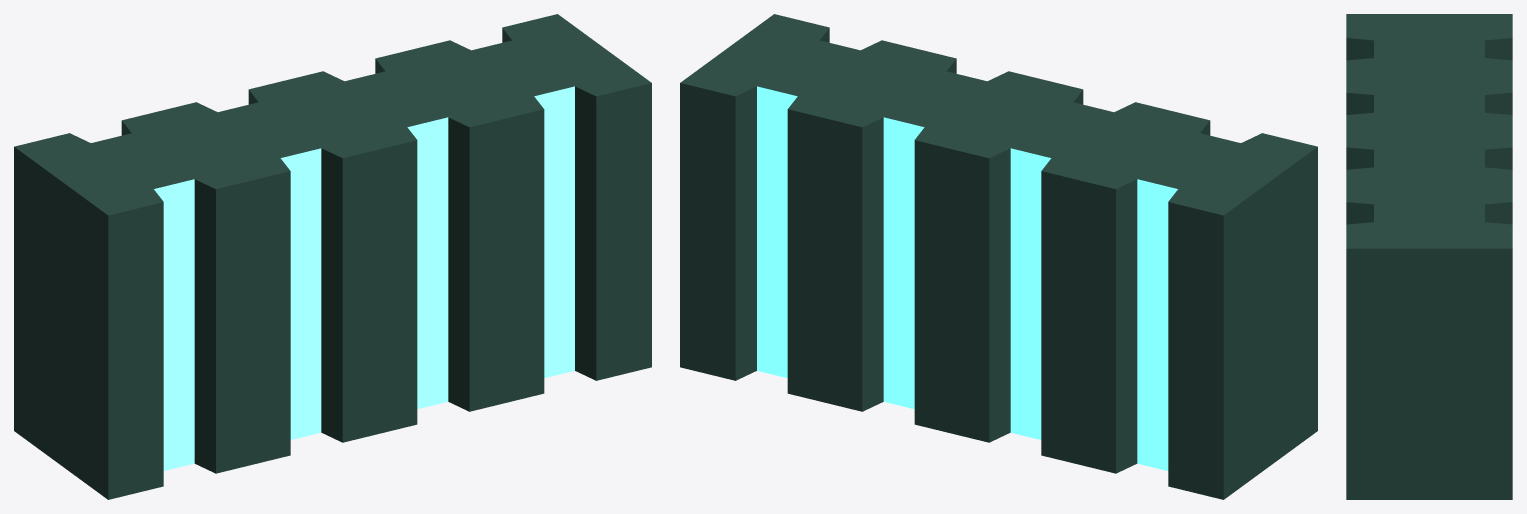
The model's file is W2_Wall_Ridge1Double_Top.fbx.
3 renders of one model, left to right at view 1: azimuth 30°, elevation 25°; view 2: azimuth 150°, elevation 25°; view 3: azimuth 270°, elevation 25°, orthographic. The views are drawn at different scales.
Visible parts, largest first — view 1: W2_Wall_Ridge1Double_Top.001; view 2: W2_Wall_Ridge1Double_Top.001; view 3: W2_Wall_Ridge1Double_Top.001.
Boxes of the visible parts, box(x1,y1,x2,y2) form: W2_Wall_Ridge1Double_Top.001: box(14, 14, 651, 499); W2_Wall_Ridge1Double_Top.001: box(680, 14, 1317, 499); W2_Wall_Ridge1Double_Top.001: box(1346, 14, 1512, 499).
Size of the model in its own units: 1 by 0.5 by 0.3.
